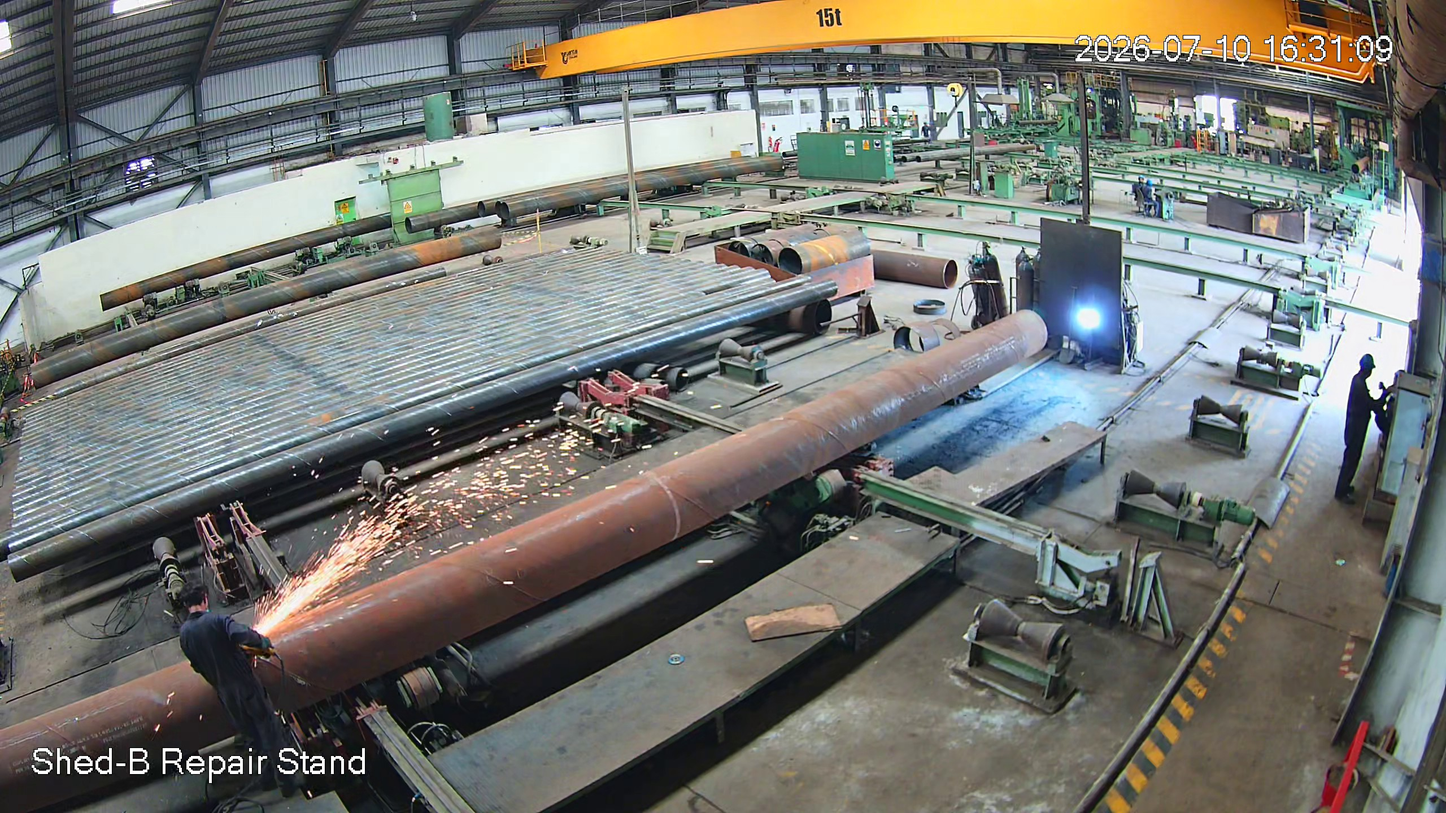Helmet: (1353, 345, 1382, 385)
Person: (176, 583, 321, 797), (1329, 350, 1383, 503)
